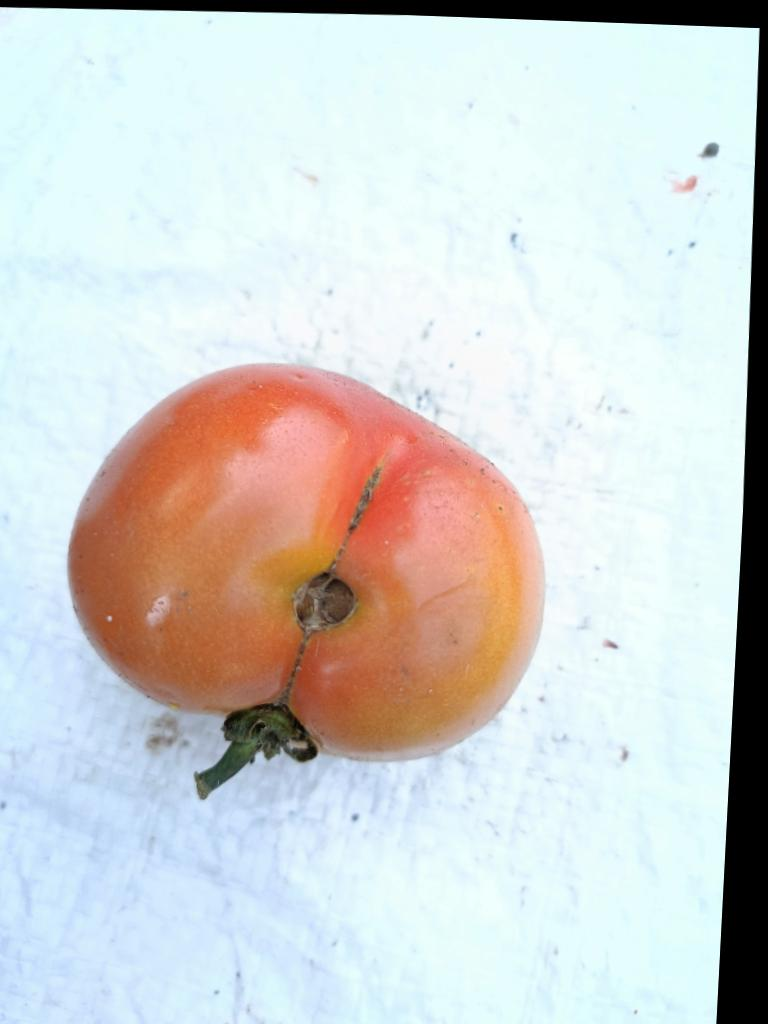surface_damage: (276, 465, 381, 705)
tomato: (68, 365, 543, 796)
